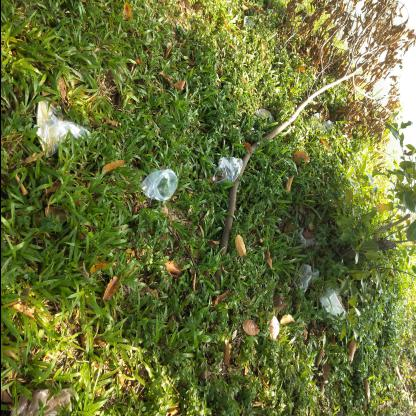plastik: (33, 97, 91, 157), (139, 169, 177, 201), (211, 156, 242, 184)
